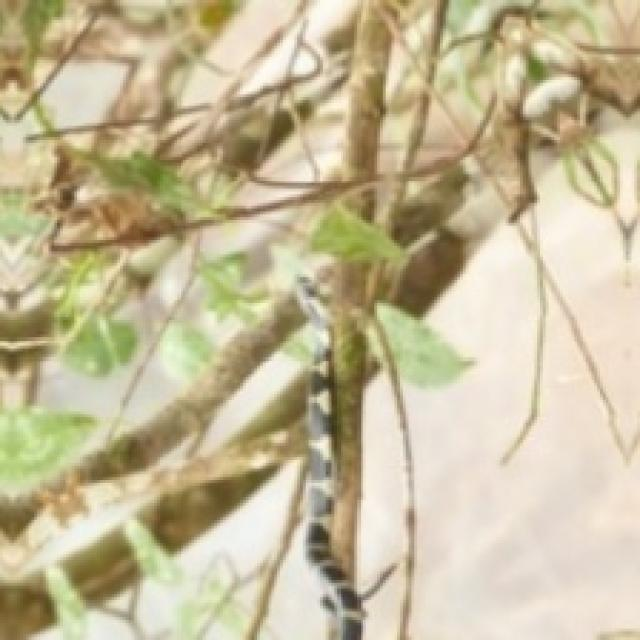king cobra: (289, 277, 394, 637)
